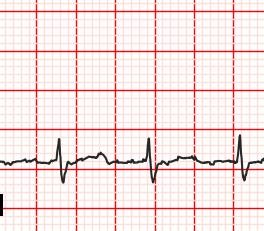Poor R Progression: (53, 135, 67, 165), (233, 132, 246, 164), (142, 136, 156, 163)
ST Depression: (140, 157, 162, 184), (52, 157, 72, 185), (232, 157, 253, 182)
